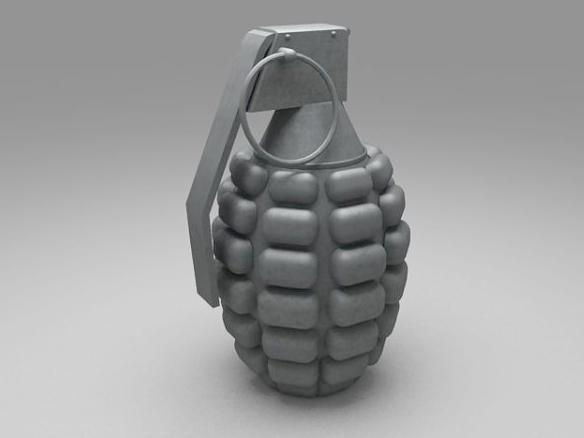Grenade: (185, 24, 411, 398)
